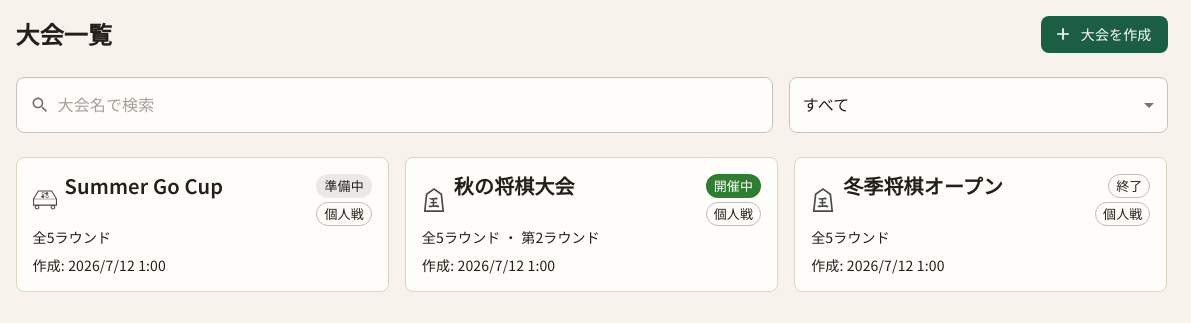
it: TournamentListPage › TRN-AC-022: 大会名検索と状態フィルタを同時に指定すると、両方を満たす大会だけが表示される(AND)
This screenshot has width=1191, height=323.
Expected: the heading "Summer Go Cup" is shown, [64,174,223,220]
In the field labelled "大会名で検索": (415, 104) [58,76,773,132], type "将棋"
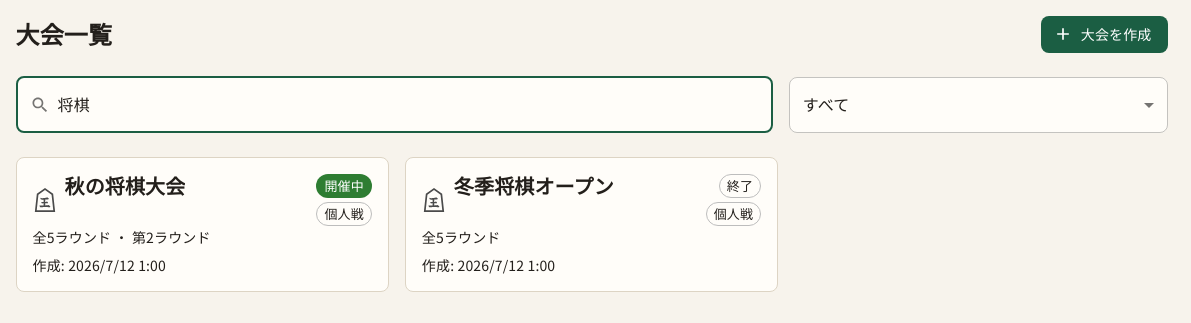
Click the dropdown named "状態で絞り込み": (826, 104) [803,92,850,116]
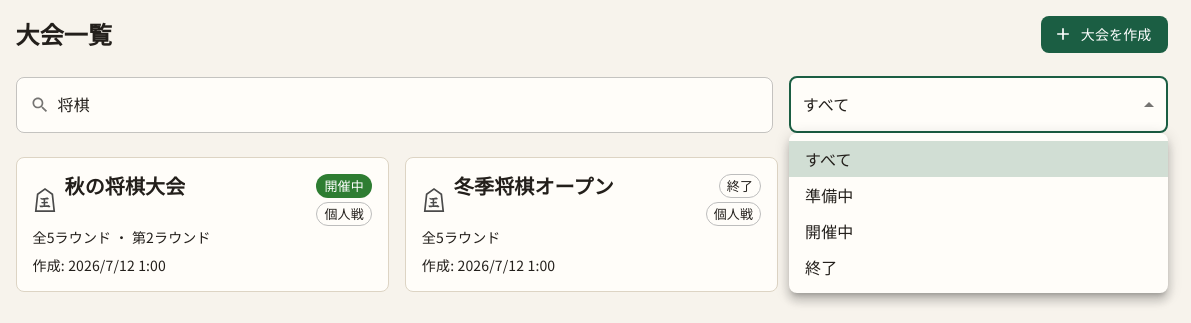
Click the option "終了": (821, 267) [805,255,837,279]
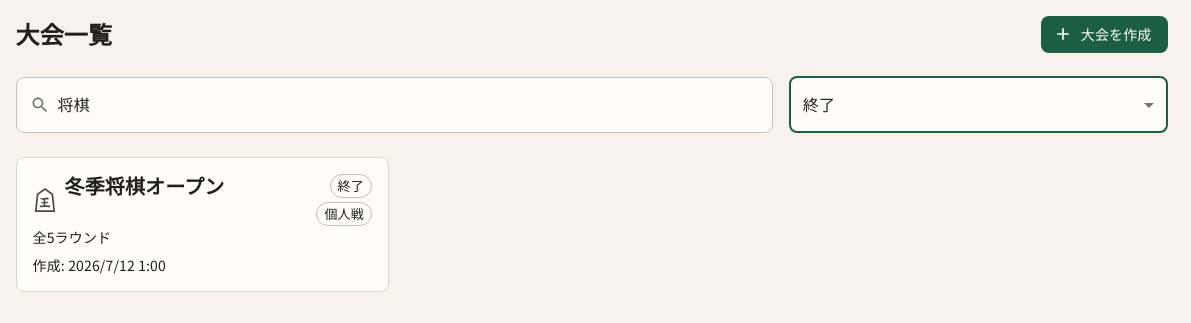
Expected: the heading "冬季将棋オープン" is shown, [64,174,224,220]
Expected: the link "秋の将棋大会" is gone
